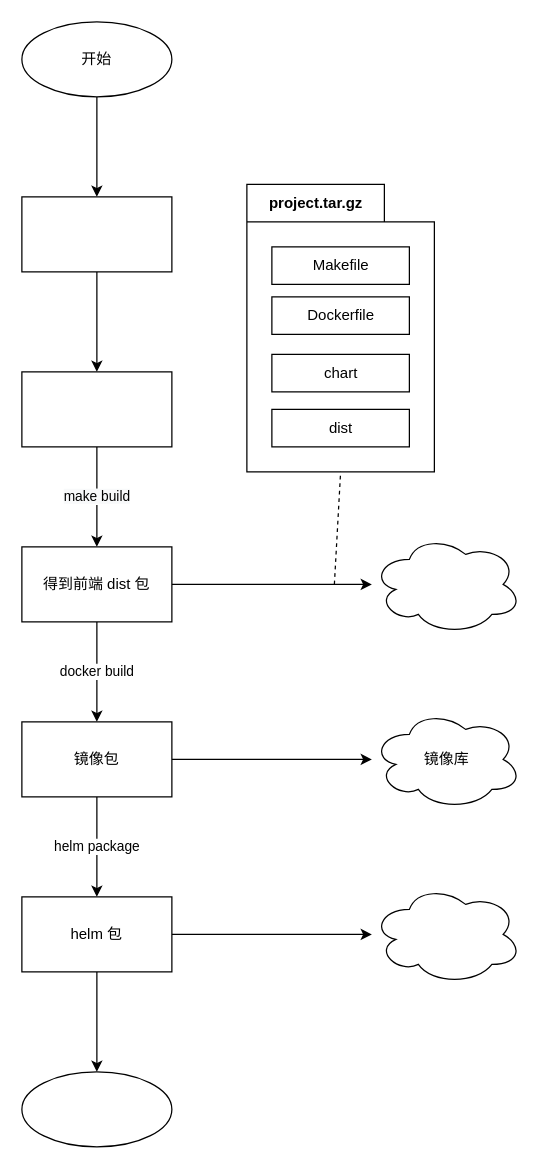
The diagram is 544 pixels wide and 1169 high, and some of its shapes have lost their labels. The centre of each missing label's shape, as x and y in pixels:
"helm 库" goes at [446,933].
"制品库" goes at [446,583].
"拉取 web-images" goes at [96,234].
"拉取目标分支代码" goes at [96,409].
"结束" goes at [96,1109].
